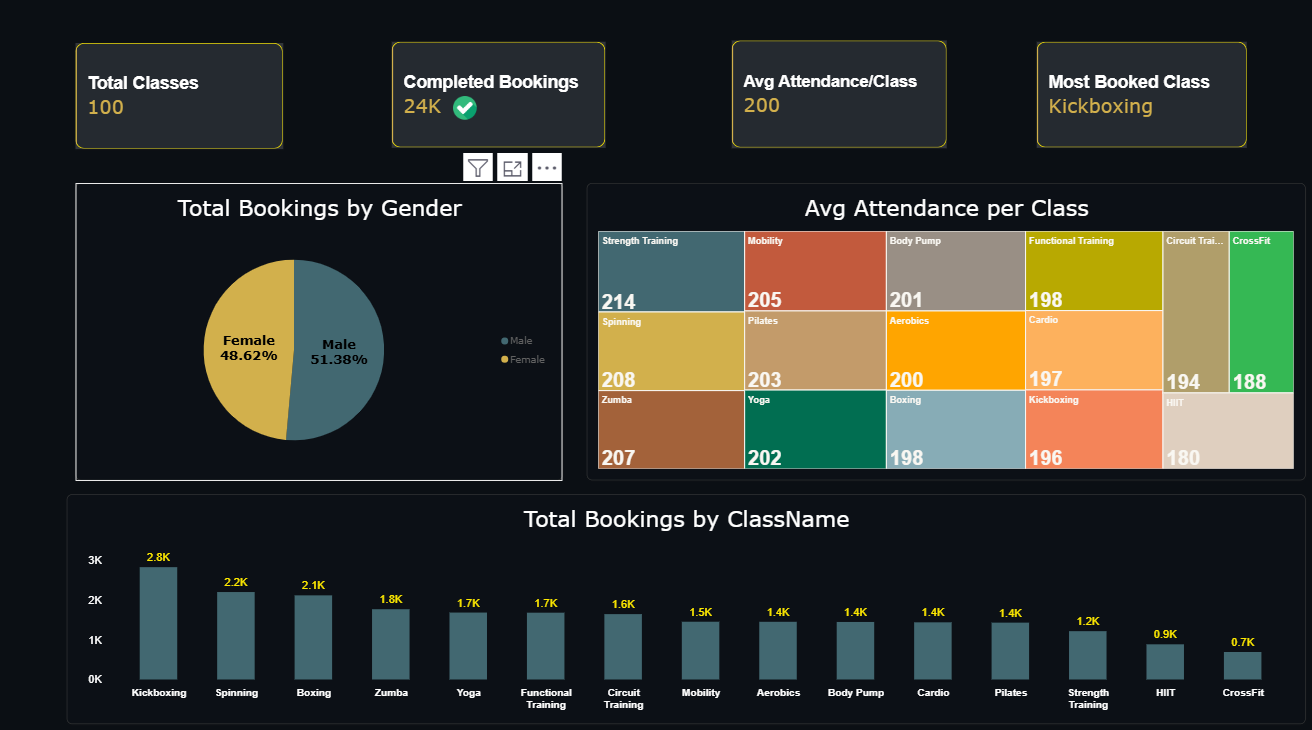

This screenshot's page, from the dashboard's own definition file:
{"tool":"powerbi","page":{"name":"CLASSES","canvas":[1920,1080],"ordinal":1},"visuals":[{"type":"cardVisual","fields":{"Data":["classes.Total Classes"]},"box":[119.4,72.4,300.4,153.8],"z":0},{"type":"cardVisual","title":"Avg Attendance/ Class","fields":{"Data":["attendance.Total Attendance"]},"box":[1069.5,68.8,311.3,155.6],"z":1000},{"type":"cardVisual","fields":{"Data":["class_bookings.Total Bookings"]},"box":[577.3,70.6,309.5,153.8],"z":2000},{"type":"pieChart","title":"Total Bookings by Gender","fields":{"Category":["members.Gender"],"Y":["class_bookings.Total Bookings"]},"box":[119.4,275.1,705.8,430.7],"z":3000},{"type":"clusteredColumnChart","title":"Total Bookings by ClassName","fields":{"Category":["classes.ClassName"],"Y":["class_bookings.Total Bookings"]},"box":[106.8,725.7,1793.4,333],"z":4000},{"type":"treemap","title":"Avg Attendance per Class ","fields":{"Group":["classes.ClassName"],"Values":["attendance.Total Attendance"]},"box":[859.6,275.1,1040.6,430.7],"z":5000},{"type":"cardVisual","fields":{"Data":["classes.Most Popular Class"]},"box":[1511.1,70.6,304,153.8],"z":6000},{"type":"image","box":[666,133.9,34.4,65.1],"z":7000}]}

Visuals, with their boxes in screenshot pixels (x1, y1, x2, y2), scaled from the page's 1920x1080 canvas onto the 1312x730 screenshot:
cardVisual - classes.Total Classes: bbox=(82, 49, 287, 153)
"Avg Attendance/ Class" cardVisual: bbox=(731, 47, 944, 152)
cardVisual - class_bookings.Total Bookings: bbox=(394, 48, 606, 152)
"Total Bookings by Gender" pieChart: bbox=(82, 186, 564, 477)
"Total Bookings by ClassName" clusteredColumnChart: bbox=(73, 491, 1298, 716)
"Avg Attendance per Class " treemap: bbox=(587, 186, 1298, 477)
cardVisual - classes.Most Popular Class: bbox=(1033, 48, 1240, 152)
image: bbox=(455, 91, 479, 135)
